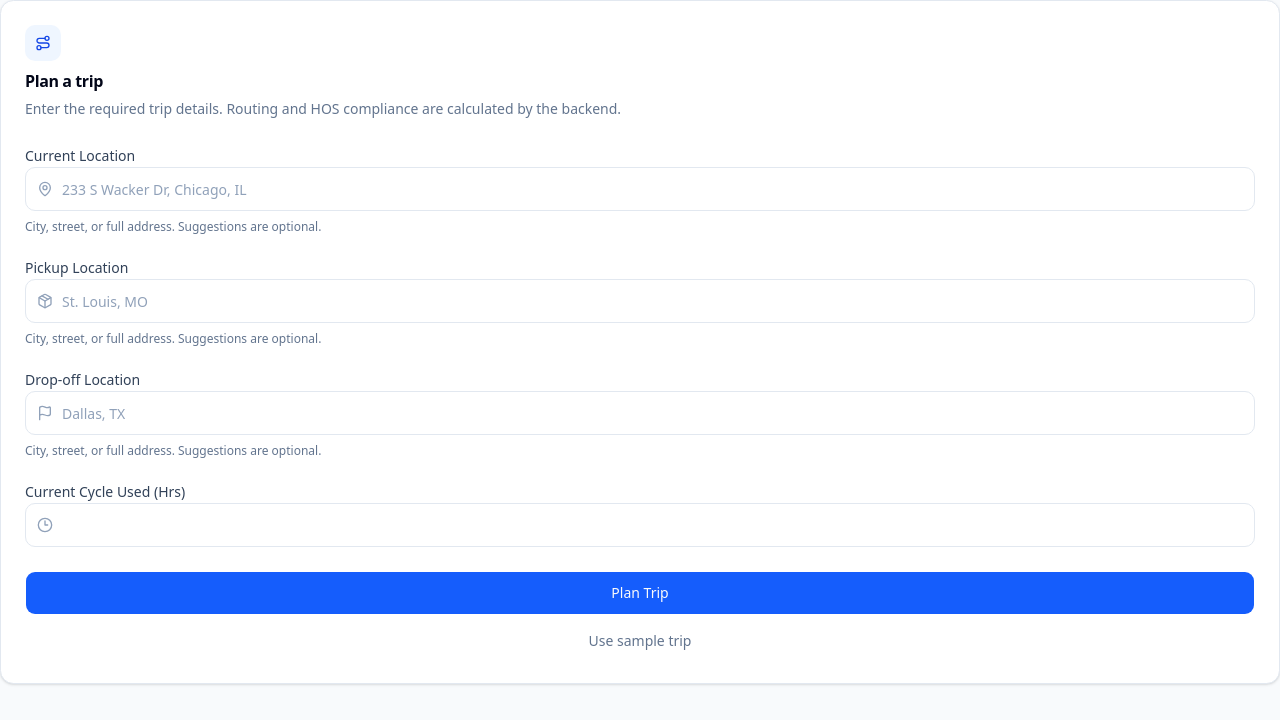
Test: TripPlannerForm › lets the user choose an autocomplete suggestion
Type "233 S Wa" into the dropdown labelled "Current Location" at (640, 189), box top-left (25, 167), bottom-right (1255, 211)
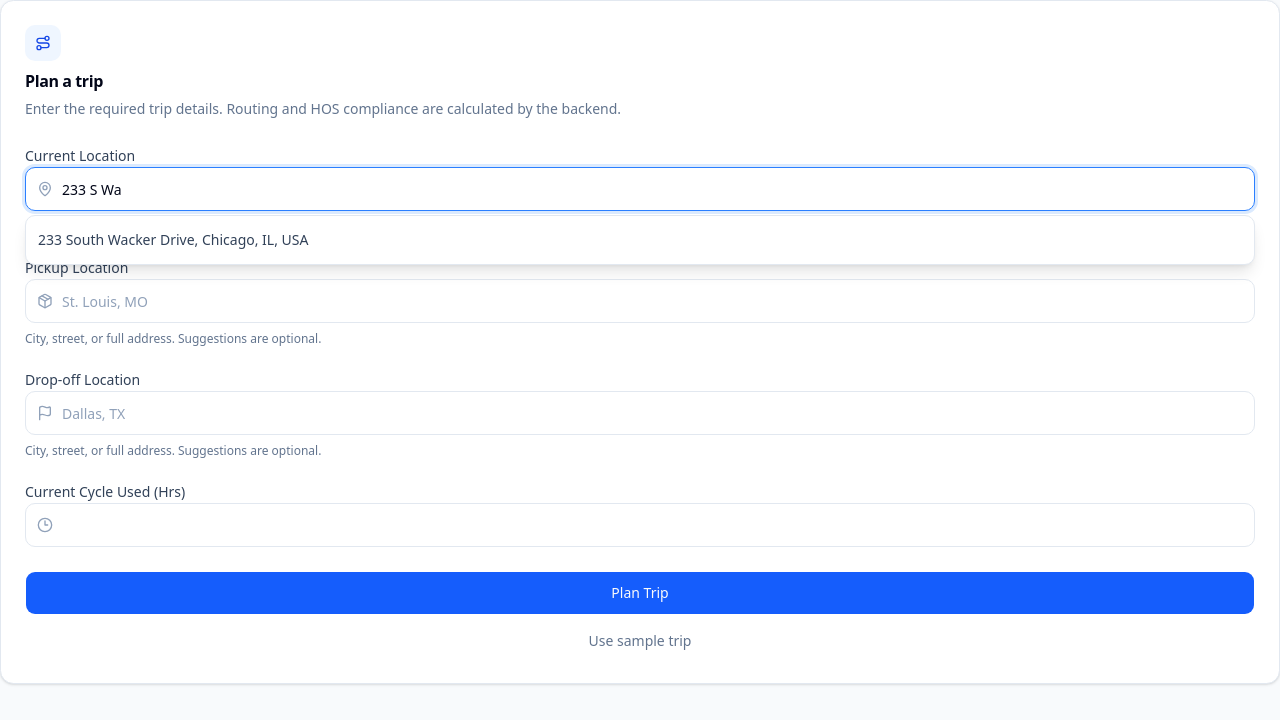
Click the option "233 South Wacker Drive, Chicago, IL, USA" at (173, 240), box top-left (38, 230), bottom-right (308, 249)
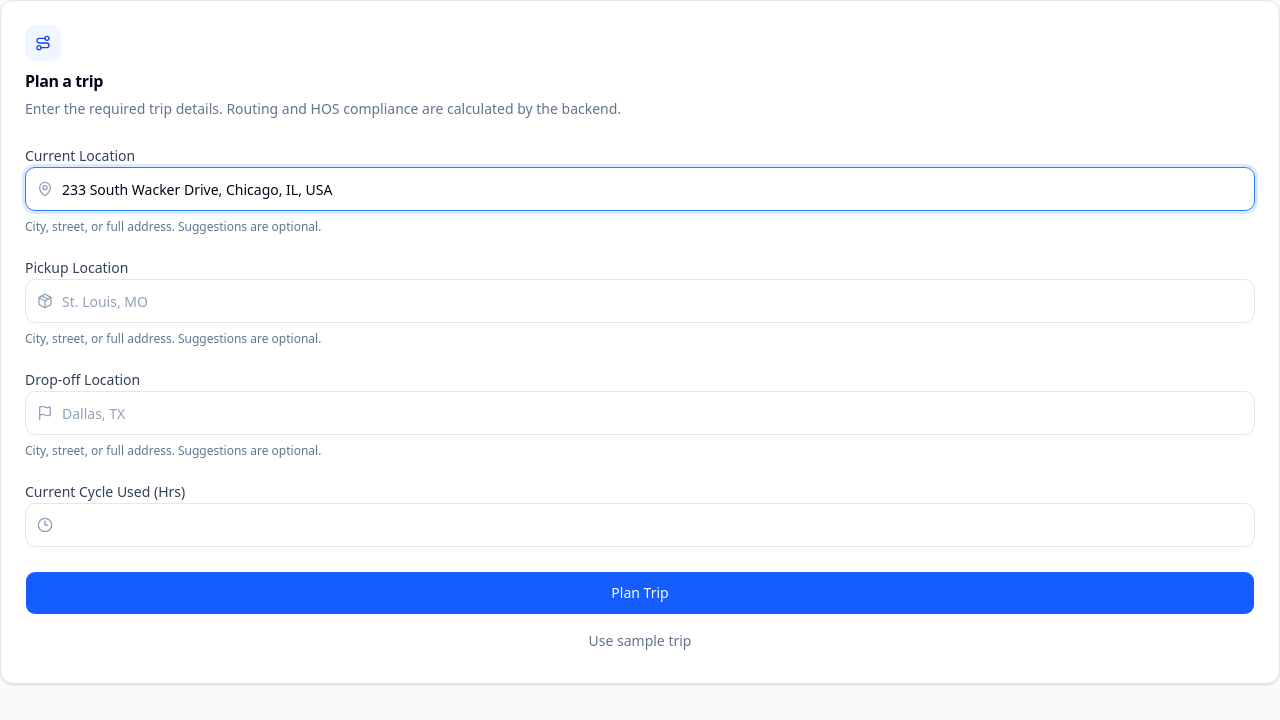
Expected: the dropdown labelled "Current Location" holds "233 South Wacker Drive, Chicago, IL, USA", top-left (25, 167), bottom-right (1255, 211)
